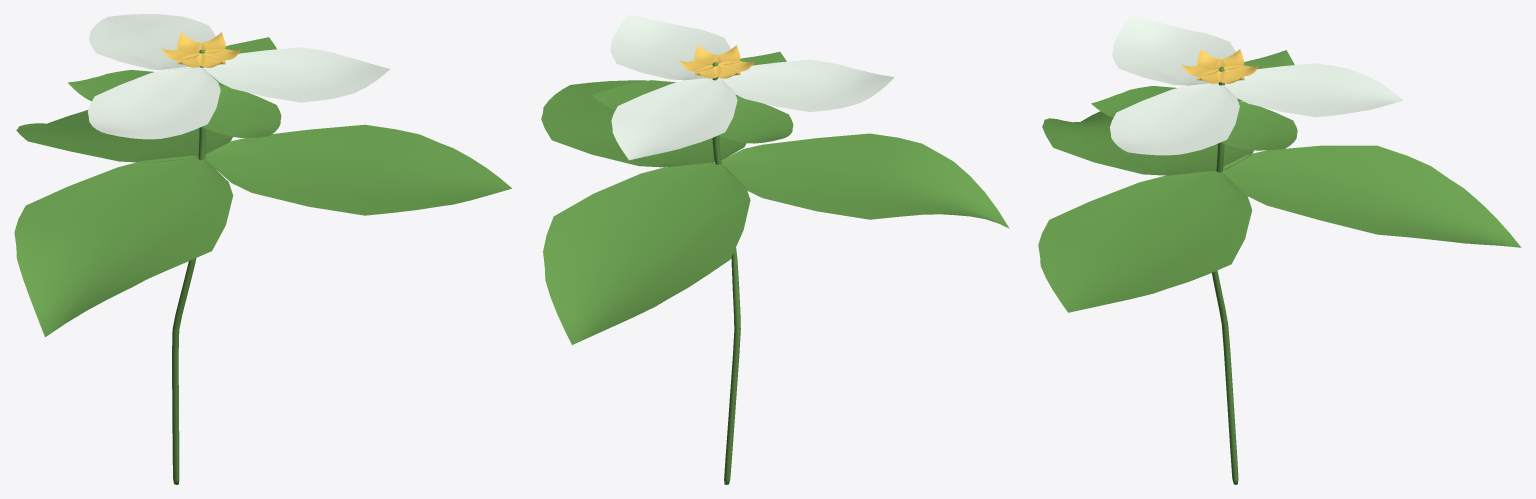
File: trillium_variant1.fbx
3 renders of one model, left to right at view 1: azimuth 30°, elevation 25°; view 2: azimuth 150°, elevation 25°; view 3: azimuth 270°, elevation 25°, orthographic. The views are drawn at different scales.
Parts seen in each view (by area): view 1: Plane.009, Plane.010, Plane.012, Plane.013, Plane.001, Plane.011, Plane.020, Stem, Plane.022, Plane.021; view 2: Plane.001, Plane.009, Plane.011, Plane.010, Plane.012, Plane.013, Plane.022, Stem, Plane.021; view 3: Plane.010, Plane.001, Plane.013, Plane.011, Plane.012, Plane.009, Plane.021, Stem, Plane.020, Plane.022.
Boxes of the visible parts, bbox=[...] form: Plane.009: bbox=[14, 155, 233, 337]; Plane.010: bbox=[205, 124, 511, 215]; Plane.012: bbox=[88, 66, 220, 139]; Plane.013: bbox=[203, 47, 389, 102]; Plane.001: bbox=[16, 110, 232, 162]; Plane.011: bbox=[89, 14, 215, 70]; Plane.020: bbox=[202, 85, 281, 137]; Stem: bbox=[172, 49, 205, 484]; Plane.022: bbox=[68, 70, 153, 101]; Plane.021: bbox=[211, 37, 276, 86]; Plane.001: bbox=[543, 162, 750, 344]; Plane.009: bbox=[718, 133, 1009, 228]; Plane.011: bbox=[611, 78, 737, 160]; Plane.010: bbox=[541, 80, 746, 167]; Plane.012: bbox=[718, 59, 894, 111]; Plane.013: bbox=[610, 14, 730, 80]; Plane.022: bbox=[718, 95, 793, 143]; Stem: bbox=[712, 62, 740, 484]; Plane.021: bbox=[591, 80, 676, 110]; Plane.010: bbox=[1038, 171, 1251, 312]; Plane.001: bbox=[1221, 145, 1521, 247]; Plane.013: bbox=[1110, 83, 1239, 155]; Plane.011: bbox=[1222, 63, 1403, 117]; Plane.012: bbox=[1112, 14, 1235, 85]; Plane.009: bbox=[1042, 111, 1253, 175]; Plane.021: bbox=[1221, 101, 1297, 150]; Stem: bbox=[1212, 67, 1238, 484]; Plane.020: bbox=[1091, 86, 1176, 117]; Plane.022: bbox=[1218, 50, 1294, 100].
Size of the model in its own units: 38.67 by 34.88 by 35.57.
